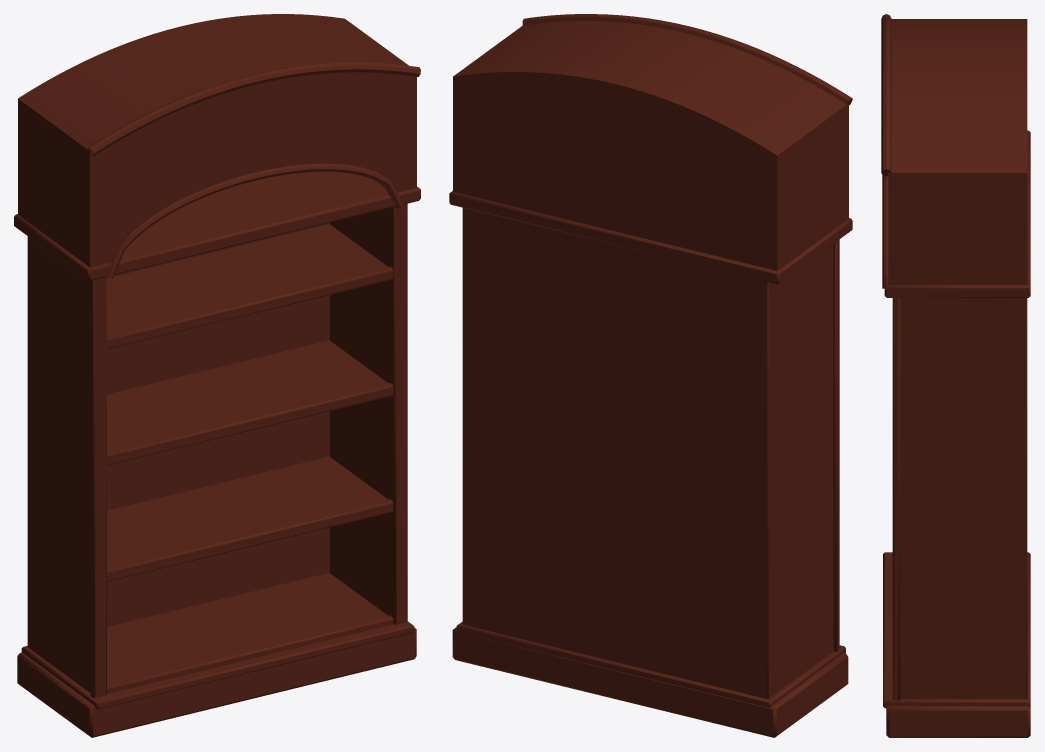
File: Bookcase.glb
3 views of the same model, side by side, from view 1: azimuth 30°, elevation 25°; view 2: azimuth 150°, elevation 25°; view 3: azimuth 270°, elevation 25° (orthographic). The views are drawn at different scales.
Parts seen in each view (by area): view 1: Bookcase_Body; view 2: Bookcase_Body; view 3: Bookcase_Body.
Part boxes in pixels (bbox=[...]): Bookcase_Body: bbox=[14, 14, 420, 737]; Bookcase_Body: bbox=[449, 14, 852, 737]; Bookcase_Body: bbox=[881, 14, 1030, 737].
Bounding box in the file's own units: 1.08 × 1.93 × 0.435.
